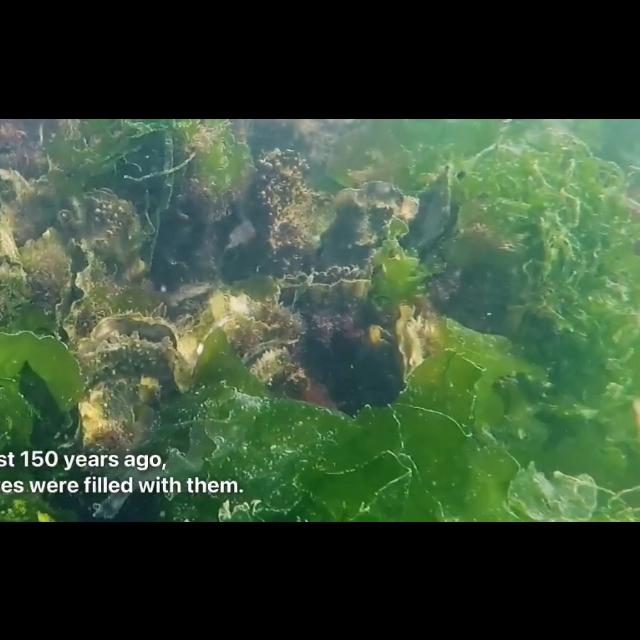Oyster-Closed: (319, 180, 421, 266), (68, 190, 150, 290), (244, 150, 316, 260)
Oyster-Open: (78, 314, 188, 444), (1, 182, 78, 300), (186, 293, 296, 365), (56, 241, 120, 347), (398, 164, 462, 264), (274, 264, 370, 312), (242, 337, 308, 398), (392, 302, 422, 372), (0, 239, 40, 291), (352, 322, 390, 352)
